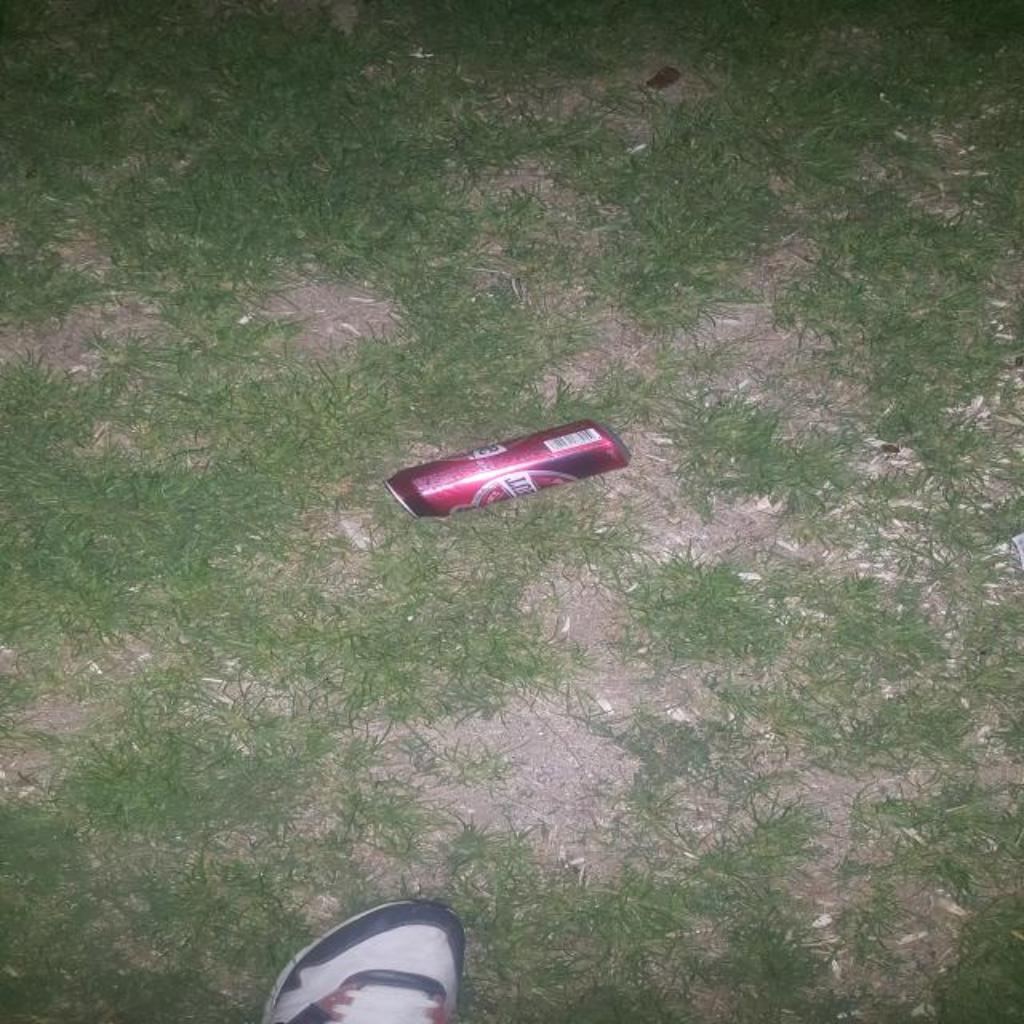garbage: (386, 426, 629, 515)
